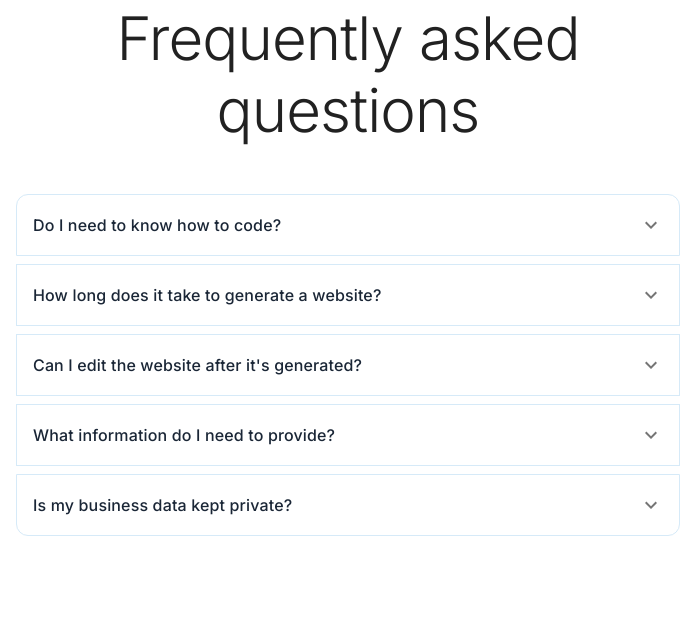
Test case: FaqSection › collapses an expanded accordion item when clicked again
Click the button "Do I need to know how to code?".
click(157, 225)  # box [17,195,679,255]
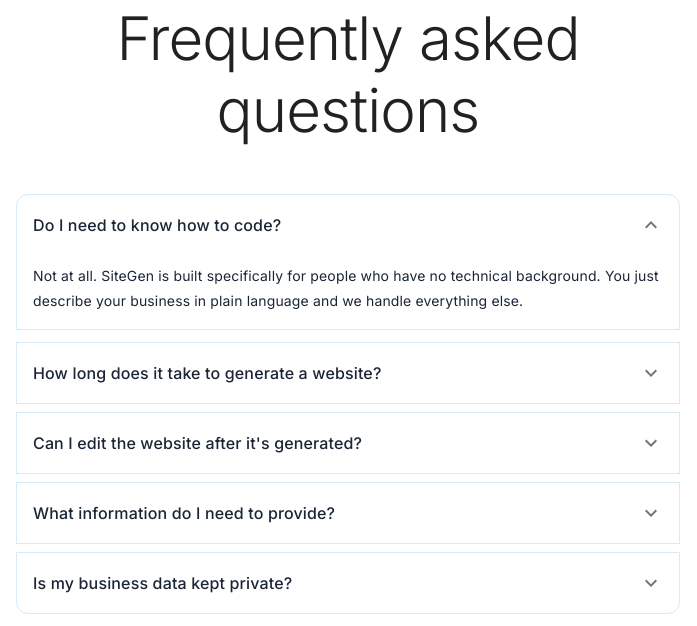
Now the button "Do I need to know how to code?" is expanded
Click the button "Do I need to know how to code?".
click(157, 225)  # box [17,195,679,255]
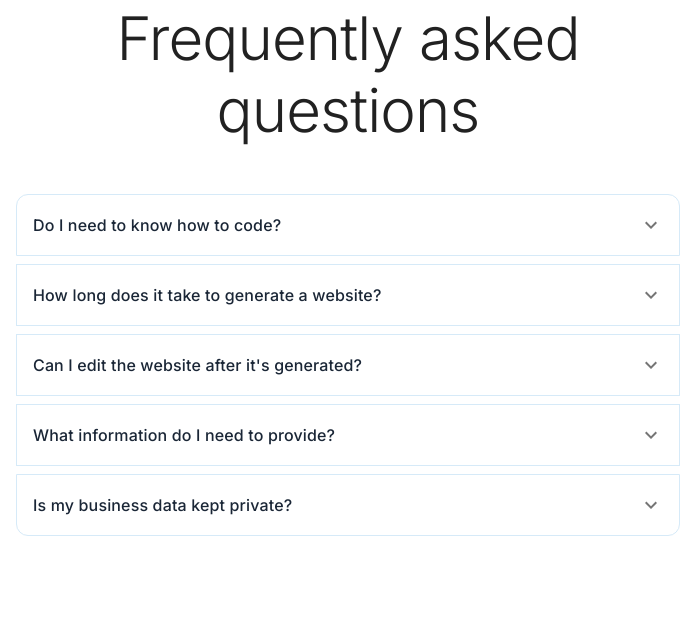
Now the button "Do I need to know how to code?" is collapsed, box [17,195,679,255]
